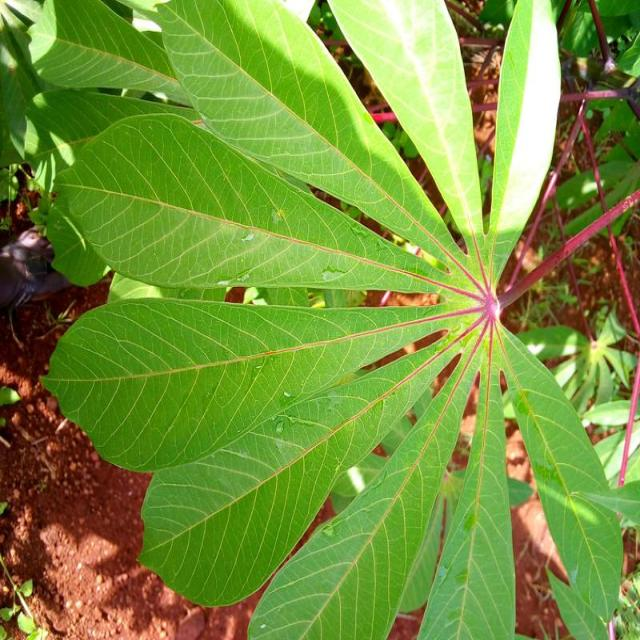cassava leaf: (22, 0, 632, 638), (46, 111, 453, 294)
